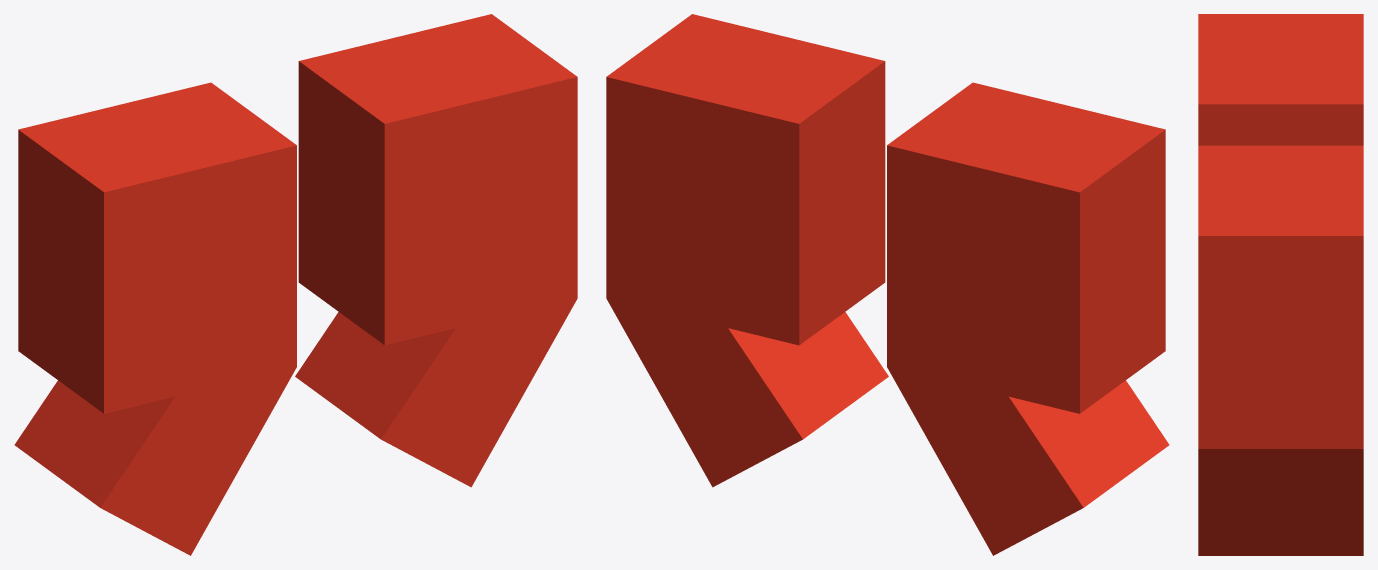
File: Icon_Symbol_Quote_02.fbx
3 views of the same model, side by side, from view 1: azimuth 30°, elevation 25°; view 2: azimuth 150°, elevation 25°; view 3: azimuth 270°, elevation 25° (orthographic). The views are drawn at different scales.
Parts seen in each view (by area): view 1: Icon_Symbol_Quote_02; view 2: Icon_Symbol_Quote_02; view 3: Icon_Symbol_Quote_02.
Boxes of the visible parts, x1=… form: Icon_Symbol_Quote_02: x1=14, y1=14, x2=577, y2=555; Icon_Symbol_Quote_02: x1=606, y1=14, x2=1169, y2=555; Icon_Symbol_Quote_02: x1=1198, y1=14, x2=1363, y2=555.
Size of the model in its own units: 38.69 by 29.79 by 12.06.
